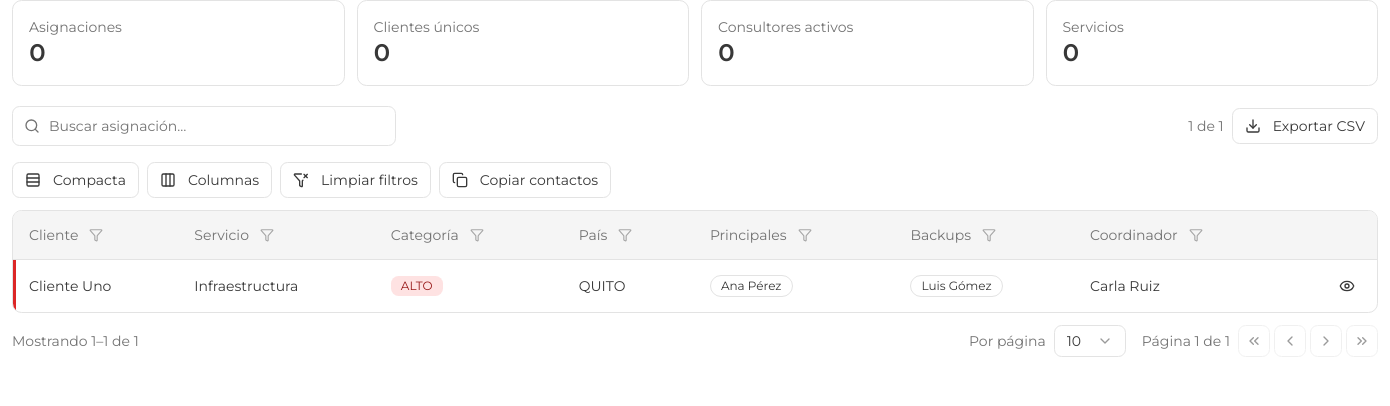
renderiza KPIs, chips de personas y filtra por búsqueda
This screenshot has width=1390, height=406.
Expected: the text "Asignaciones" is shown, [29,18,122,36]
Expected: the text "Clientes únicos" is shown, [374,18,479,36]
Type "zzz" into the field with placeholder "Buscar asignación…" at (204,126), box [12,106,396,146]
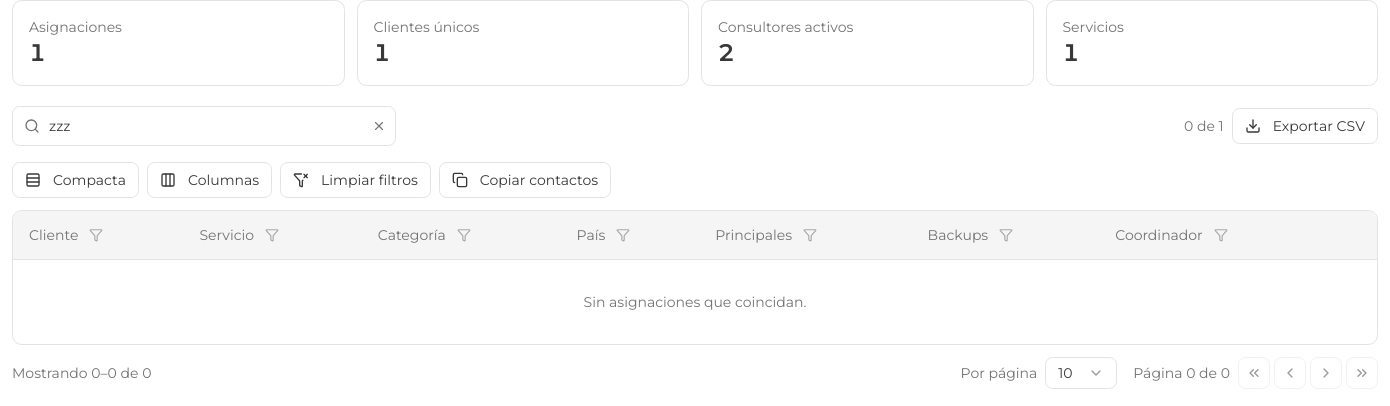
Expected: the text "Cliente Uno" is gone
